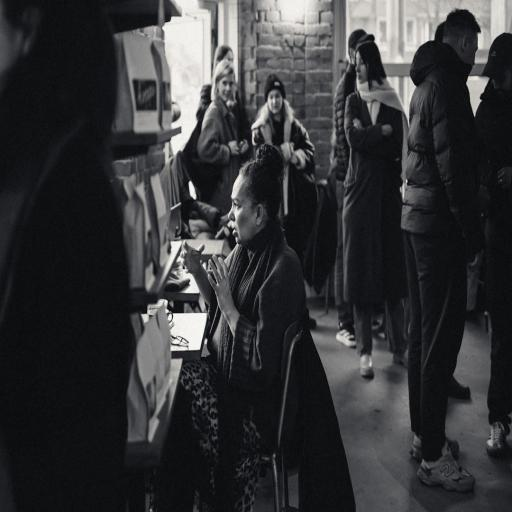face: (229, 175, 259, 244), (461, 33, 477, 65), (218, 74, 234, 102), (267, 89, 283, 115), (355, 52, 368, 83)
